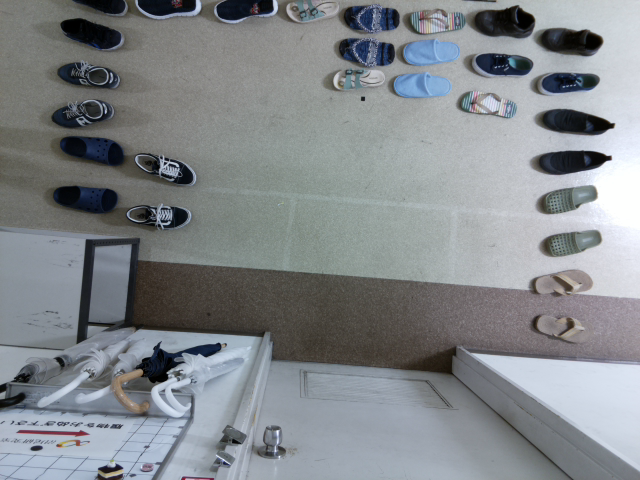Copy of Copy of Copy of Copy of Copy of Copy of Copy of Copy of Copy of Copy of: (55, 15, 128, 55), (389, 65, 459, 100), (396, 34, 466, 69), (400, 5, 470, 40), (332, 32, 402, 67), (317, 62, 387, 97), (53, 59, 126, 92), (49, 180, 122, 213), (337, 1, 407, 35), (49, 96, 121, 129), (55, 132, 127, 165), (123, 203, 195, 236), (129, 152, 201, 185), (281, 1, 351, 34), (458, 85, 520, 121), (210, 1, 279, 29), (134, 1, 203, 29)
Copy of Copy of Copy of Copy of Copy of Copy of Copy of Copy of Copy of shoe: (460, 41, 543, 79)
Copy of Copy of Copy of Copy of Copy of Copy of Copy of Copy of shoe: (460, 5, 543, 42)
Copy of Copy of Copy of Copy of Copy of Copy of Copy of shoe: (532, 23, 614, 61)
Copy of Copy of Copy of Copy of Copy of Copy of shoe: (528, 62, 611, 99)
Copy of Copy of Copy of Copy of Copy of shoe: (532, 106, 615, 144)
Copy of Copy of Copy of Copy of shoe: (531, 142, 614, 180)
Copy of Copy of Copy of shoe: (536, 180, 602, 218)
Copy of Copy of shoe: (538, 222, 604, 261)
Copy of shoe: (529, 262, 596, 300)
shoe: (532, 308, 595, 349)
